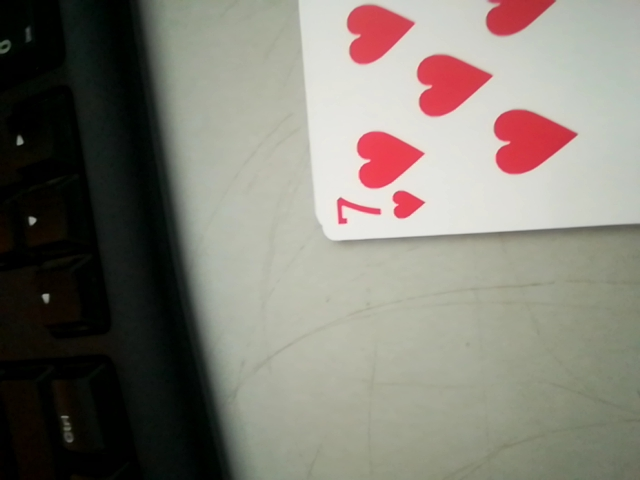hx 7: (331, 186, 434, 241)
